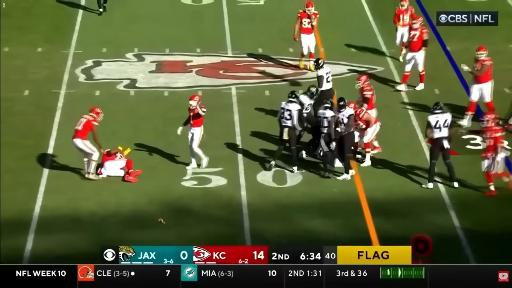Helmet: (481, 112, 497, 127), (89, 107, 103, 121), (306, 85, 319, 99), (356, 75, 369, 88), (476, 46, 487, 59), (431, 102, 444, 113), (412, 16, 423, 28), (190, 95, 200, 108), (288, 91, 299, 102), (314, 58, 324, 70), (338, 97, 346, 111), (305, 2, 314, 14), (322, 99, 333, 108), (400, 0, 409, 9), (347, 102, 357, 110), (115, 153, 126, 159)
Jersey: (482, 126, 505, 157), (278, 101, 302, 130), (428, 113, 452, 138), (73, 115, 98, 139), (408, 26, 428, 53), (474, 58, 493, 83), (298, 11, 318, 34), (355, 111, 378, 131), (318, 108, 335, 133), (337, 108, 354, 133), (394, 7, 414, 27), (360, 85, 375, 110), (317, 66, 332, 90), (189, 106, 205, 127), (299, 94, 313, 116), (102, 150, 125, 163)
Player: (422, 102, 458, 189), (267, 91, 304, 173), (458, 46, 494, 127), (396, 16, 428, 91), (178, 95, 209, 169), (72, 107, 103, 180), (482, 112, 506, 195), (318, 100, 339, 178), (294, 2, 318, 70), (98, 147, 142, 182), (355, 108, 380, 166), (298, 85, 319, 150), (394, 0, 414, 61), (314, 58, 335, 104), (356, 75, 377, 118), (299, 85, 319, 124), (97, 0, 107, 15), (347, 102, 358, 111), (347, 102, 357, 110), (507, 118, 511, 129)
